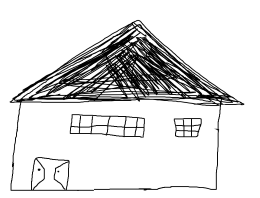closed_window: (67, 111, 149, 143), (170, 115, 209, 141)
door: (26, 152, 74, 193)
shaded_roof: (9, 19, 244, 106)
wall: (5, 97, 226, 193)
